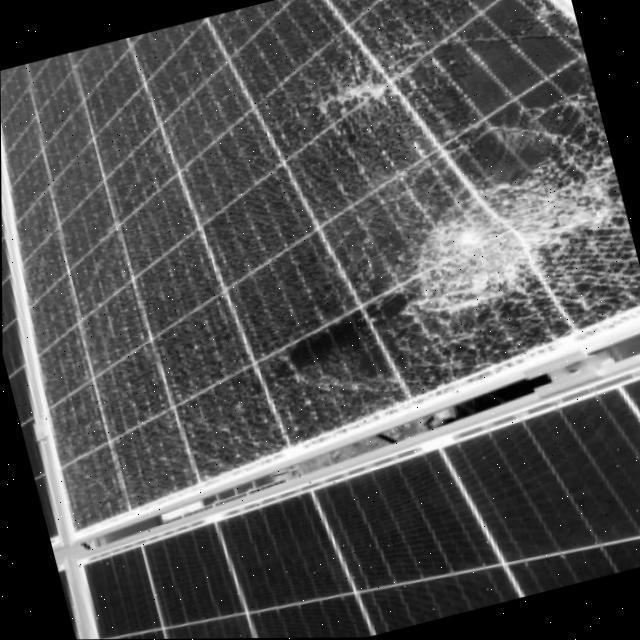Anomaly Solar Panel: (0, 0, 640, 532)
Structural Damage: (357, 106, 640, 364), (275, 15, 430, 153)
